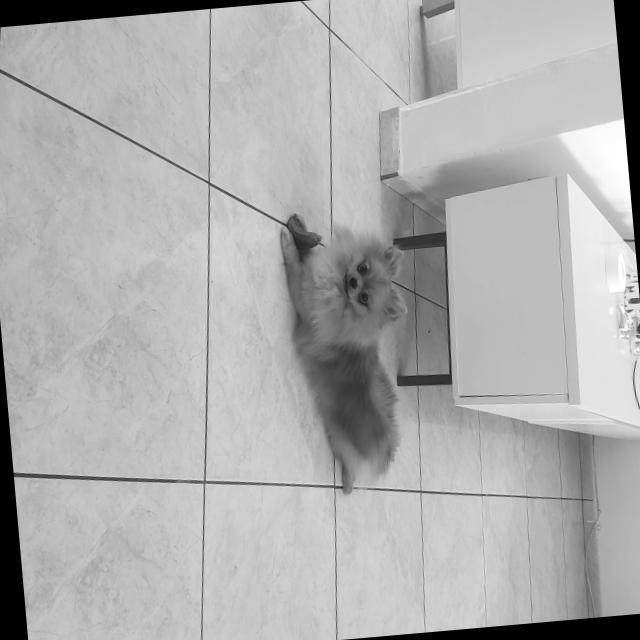laying down: (270, 191, 425, 502)
